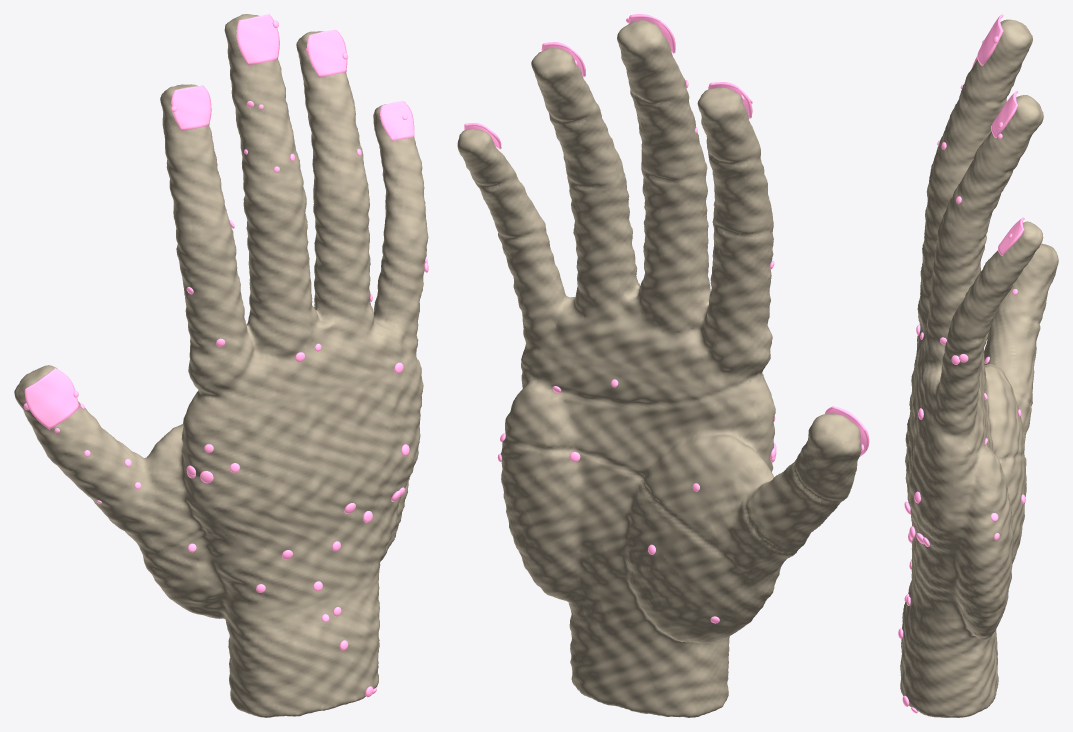
The model's file is family-02.glb.
3 renders of one model, left to right at view 1: azimuth 30°, elevation 25°; view 2: azimuth 150°, elevation 25°; view 3: azimuth 270°, elevation 25°, orthographic. The views are drawn at different scales.
Visible parts, largest first — view 1: knuckles__knuckles_sculpt, back_of_hand__back_of_hand_sculpt, middle_sections__middle_sections_sculpt, wrist__wrist_sculpt, fingertips__fingertips_sculpt, palm__palm_sculpt, nails__thumb_claw, nails__middle_claw, nails__ring_claw, nails__index_claw, back_of_hand, nails__pinky_claw; view 2: knuckles__knuckles_sculpt, palm__palm_sculpt, middle_sections__middle_sections_sculpt, wrist__wrist_sculpt, fingertips__fingertips_sculpt; view 3: palm__palm_sculpt, knuckles__knuckles_sculpt, middle_sections__middle_sections_sculpt, wrist__wrist_sculpt, back_of_hand__back_of_hand_sculpt, fingertips__fingertips_sculpt, nails__middle_claw, nails__ring_claw, nails__pinky_claw, back_of_hand, knuckles.
Part boxes in pixels (left/top/right/bottom): knuckles__knuckles_sculpt: left=102, top=172, right=428, bottom=593; back_of_hand__back_of_hand_sculpt: left=185, top=355, right=423, bottom=611; middle_sections__middle_sections_sculpt: left=44, top=77, right=427, bottom=512; wrist__wrist_sculpt: left=176, top=558, right=383, bottom=717; fingertips__fingertips_sculpt: left=14, top=14, right=418, bottom=450; palm__palm_sculpt: left=165, top=401, right=409, bottom=604; nails__thumb_claw: left=24, top=368, right=79, bottom=429; nails__middle_claw: left=236, top=14, right=279, bottom=65; nails__ring_claw: left=307, top=29, right=347, bottom=77; nails__index_claw: left=171, top=85, right=211, bottom=130; back_of_hand: left=186, top=444, right=409, bottom=592; nails__pinky_claw: left=380, top=101, right=414, bottom=140; knuckles__knuckles_sculpt: left=495, top=153, right=806, bottom=620; palm__palm_sculpt: left=500, top=340, right=771, bottom=629; middle_sections__middle_sections_sculpt: left=471, top=73, right=852, bottom=546; wrist__wrist_sculpt: left=531, top=576, right=742, bottom=717; fingertips__fingertips_sculpt: left=457, top=20, right=861, bottom=494; palm__palm_sculpt: left=951, top=355, right=1024, bottom=631; knuckles__knuckles_sculpt: left=914, top=155, right=1032, bottom=496; middle_sections__middle_sections_sculpt: left=935, top=70, right=1042, bottom=392; wrist__wrist_sculpt: left=900, top=580, right=998, bottom=717; back_of_hand__back_of_hand_sculpt: left=905, top=360, right=953, bottom=619; fingertips__fingertips_sculpt: left=970, top=19, right=1058, bottom=315; nails__middle_claw: left=977, top=14, right=1003, bottom=65; nails__ring_claw: left=991, top=91, right=1018, bottom=137; nails__pinky_claw: left=998, top=217, right=1024, bottom=255; back_of_hand: left=904, top=491, right=929, bottom=569; knuckles: left=916, top=325, right=968, bottom=419.
Bounding box in the file's own units: 0.1314 × 0.2173 × 0.0481.
Materials: 2 (1 with a texture image).
